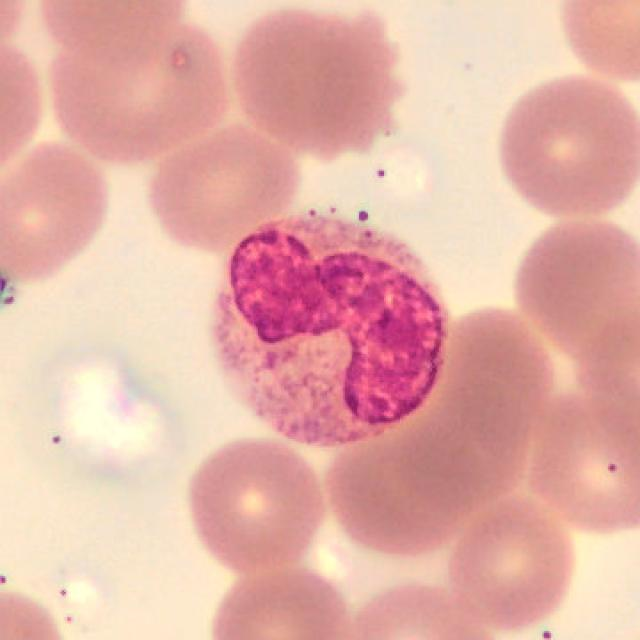Bastonete: (213, 212, 450, 450)
